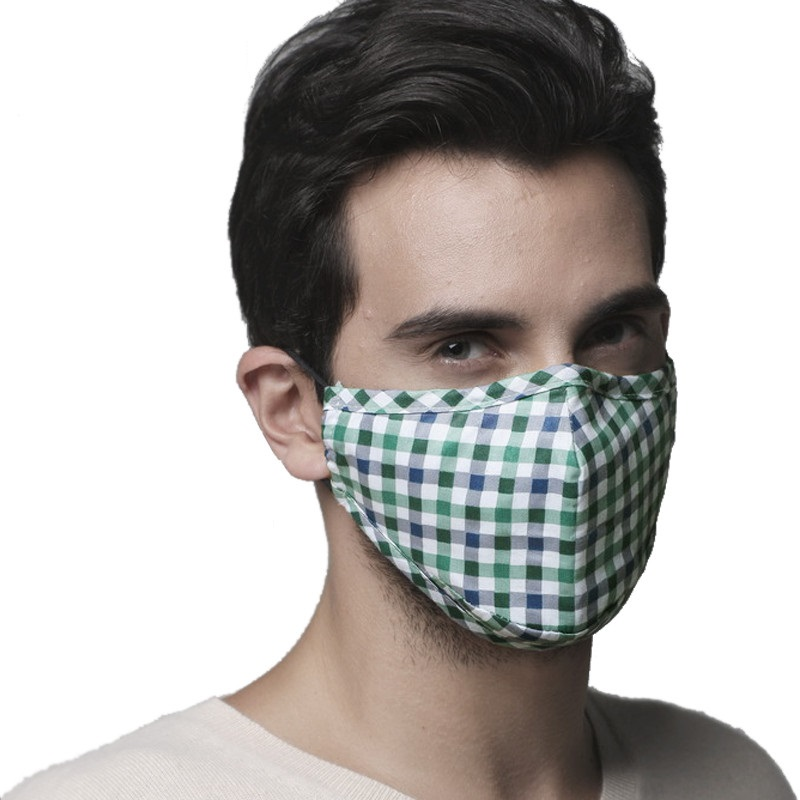face_mask: (330, 151, 667, 616)
